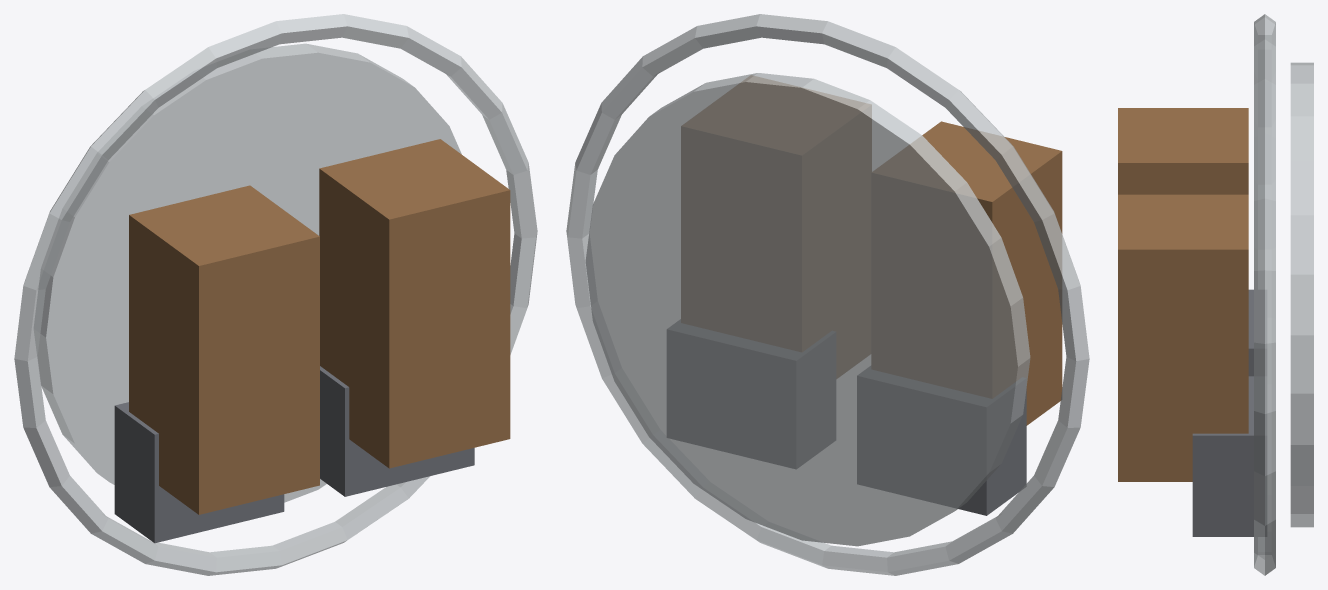
File: armor_pickup_boots_common.glb
3 renders of one model, left to right at view 1: azimuth 30°, elevation 25°; view 2: azimuth 150°, elevation 25°; view 3: azimuth 270°, elevation 25°, orthographic. The views are drawn at different scales.
Visible parts, largest first — view 1: rarity_base_disc, boot_r, boot_l, rarity_orbit_ring, toe_l, toe_r; view 2: rarity_base_disc, boot_l, boot_r, rarity_orbit_ring, toe_l, toe_r; view 3: boot_r, rarity_orbit_ring, boot_l, rarity_base_disc, toe_r, toe_l.
Boxes of the visible parts, bbox=[...] form: rarity_base_disc: bbox=[34, 43, 461, 502]; boot_r: bbox=[319, 139, 510, 468]; boot_l: bbox=[129, 185, 319, 514]; rarity_orbit_ring: bbox=[14, 14, 537, 575]; toe_l: bbox=[114, 402, 284, 543]; toe_r: bbox=[320, 366, 474, 496]; rarity_base_disc: bbox=[585, 73, 1030, 546]; boot_l: bbox=[872, 121, 1062, 425]; boot_r: bbox=[681, 75, 871, 377]; rarity_orbit_ring: bbox=[566, 14, 1089, 575]; toe_l: bbox=[857, 366, 1026, 515]; toe_r: bbox=[667, 319, 835, 468]; boot_r: bbox=[1118, 194, 1248, 481]; rarity_orbit_ring: bbox=[1254, 14, 1275, 575]; boot_l: bbox=[1118, 108, 1248, 194]; rarity_base_disc: bbox=[1290, 62, 1313, 527]; toe_r: bbox=[1192, 376, 1266, 536]; toe_l: bbox=[1248, 289, 1266, 376].
Bounding box in the file's own units: 1.21 × 1.21 × 0.42.
